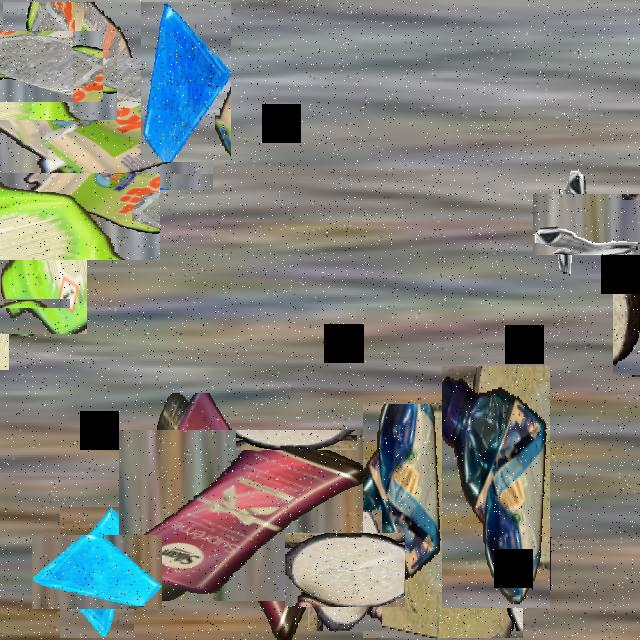glass: (141, 2, 231, 162), (46, 521, 148, 624), (0, 16, 89, 116)
metal: (545, 181, 631, 267)
plastic: (138, 411, 346, 620), (0, 30, 185, 218), (442, 366, 550, 608), (0, 136, 123, 297), (636, 259, 640, 377)
wood: (363, 404, 523, 638), (296, 522, 394, 619), (613, 258, 640, 375), (0, 268, 39, 339)
